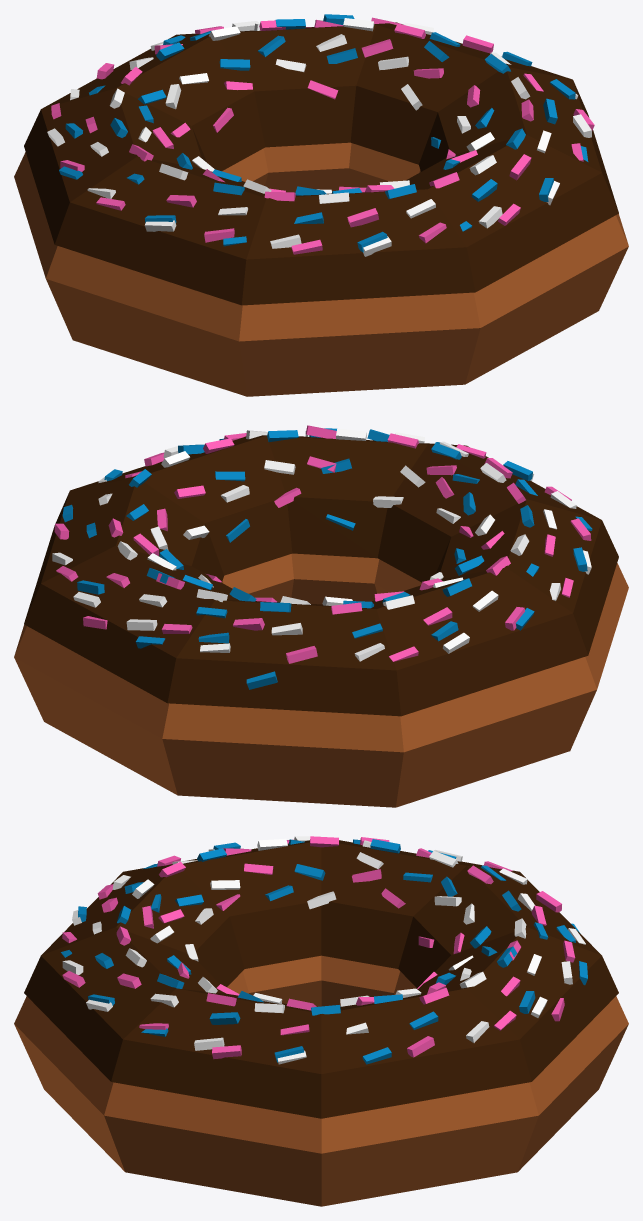
The model's file is 8KY9R5UDV_M.glb.
3 views of the same model, one above another, from view 1: azimuth 30°, elevation 25°; view 2: azimuth 150°, elevation 25°; view 3: azimuth 270°, elevation 25° (orthographic). The views are drawn at different scales.
Visible parts, largest first — view 1: Node; view 2: Node; view 3: Node.
Part boxes in pixels (x1,y1,x2,y2): Node: (14,14,628,396); Node: (14,425,628,807); Node: (14,836,628,1206).
Size of the model in its own units: 2.84 by 1 by 2.84.
